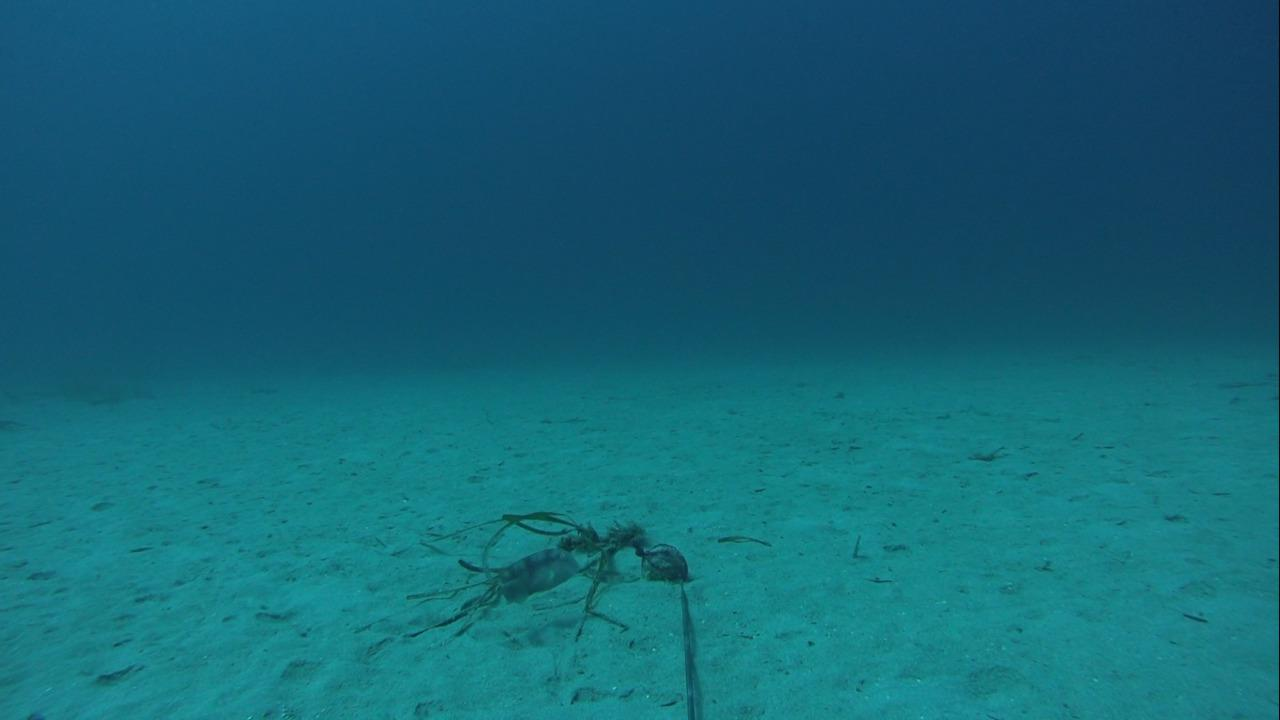raor: (480, 542, 584, 602)
